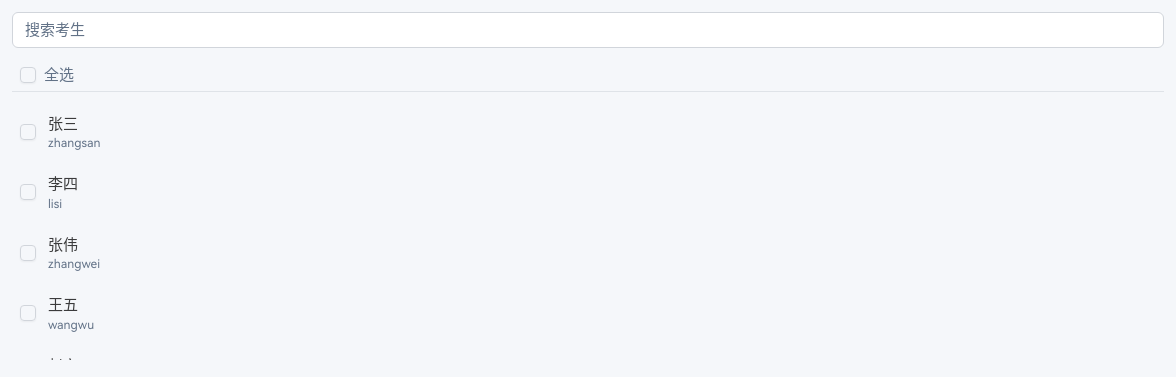
EnrollmentPicker › filters candidates by username when searching
Step 1. Type "zhang" into the field with placeholder "搜索考生" → (588, 30), box [12,12,1164,48]
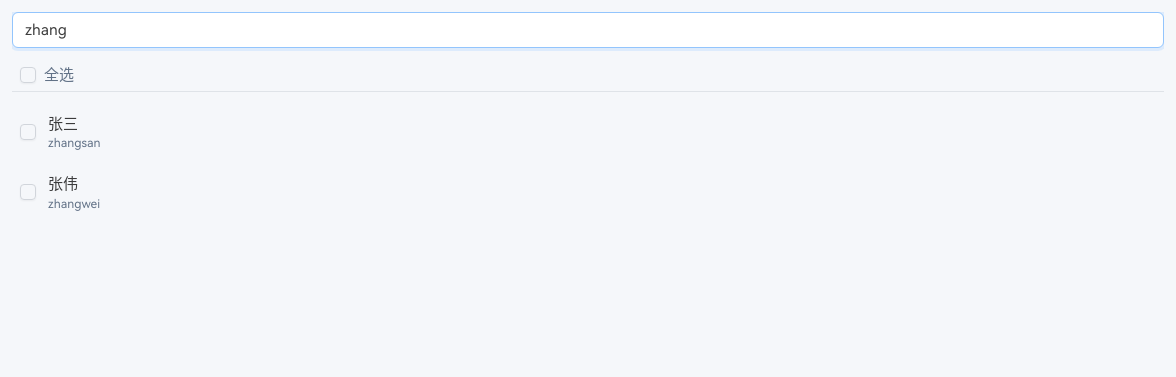
Expected: the text "张三" is shown, [48,112,78,132]
Now the text "李四" is gone
